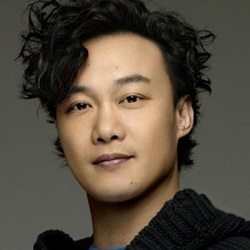unmask: (48, 70, 180, 200)
